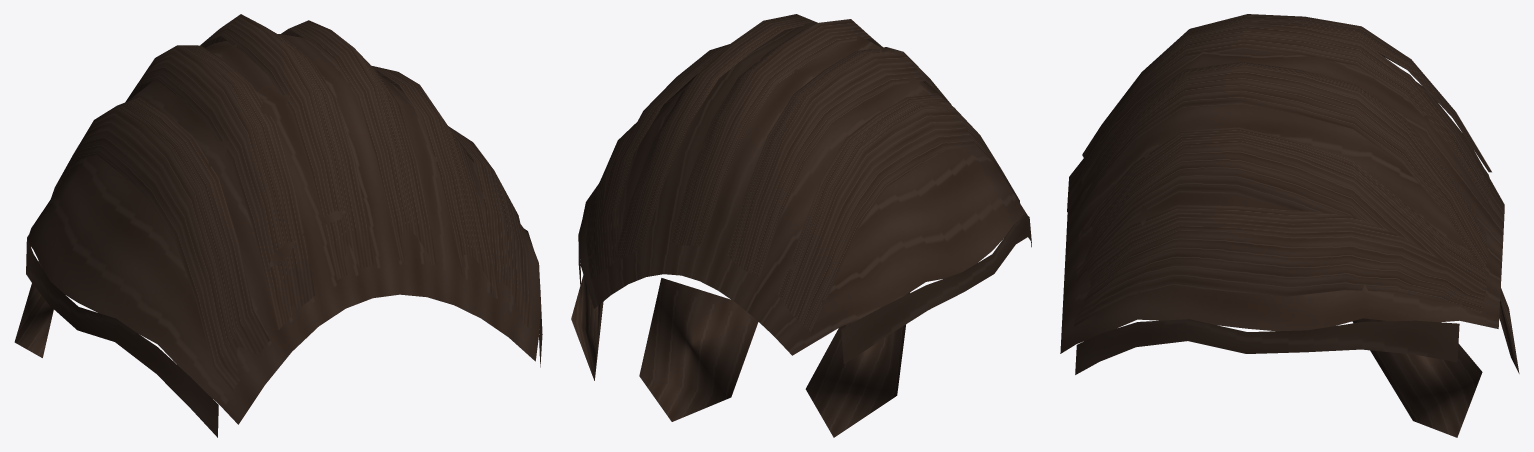
The model's file is hair_swept_back_v01.glb.
The picture shows the model from 3 angles, left to right: view 1: azimuth 30°, elevation 25°; view 2: azimuth 150°, elevation 25°; view 3: azimuth 270°, elevation 25°; orthographic projection. The views are drawn at different scales.
Visible parts, largest first — view 1: hair_swept_back_v01; view 2: hair_swept_back_v01; view 3: hair_swept_back_v01.
Part boxes in pixels (x1,y1,x2,y2): hair_swept_back_v01: [14, 14, 542, 437]; hair_swept_back_v01: [571, 14, 1031, 437]; hair_swept_back_v01: [1060, 14, 1519, 437].
Size of the model in its own units: 0.2352 by 0.1942 by 0.2325.
1 material, 1 textured.
